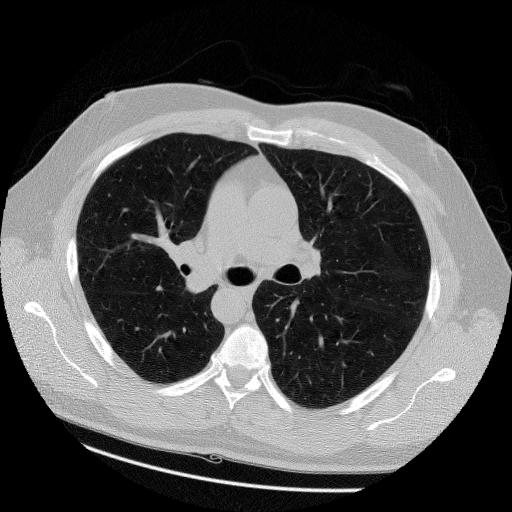nodule: (155, 282, 167, 294)
